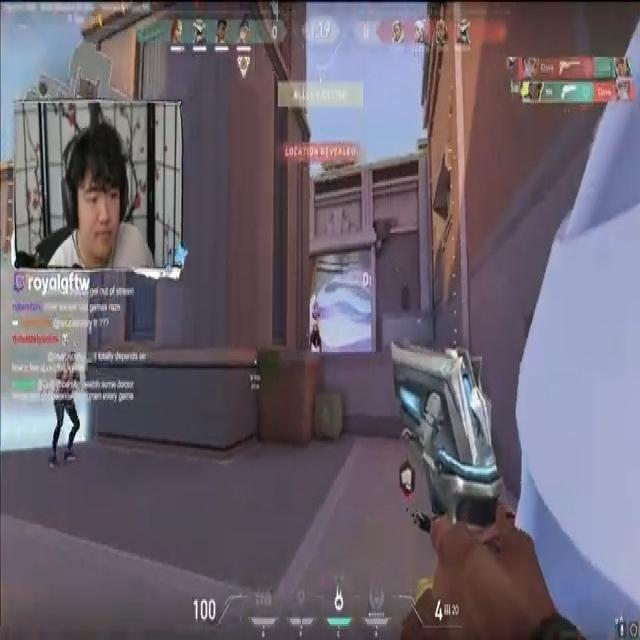enemy: (310, 296, 322, 346)
smoke: (318, 274, 376, 350)
